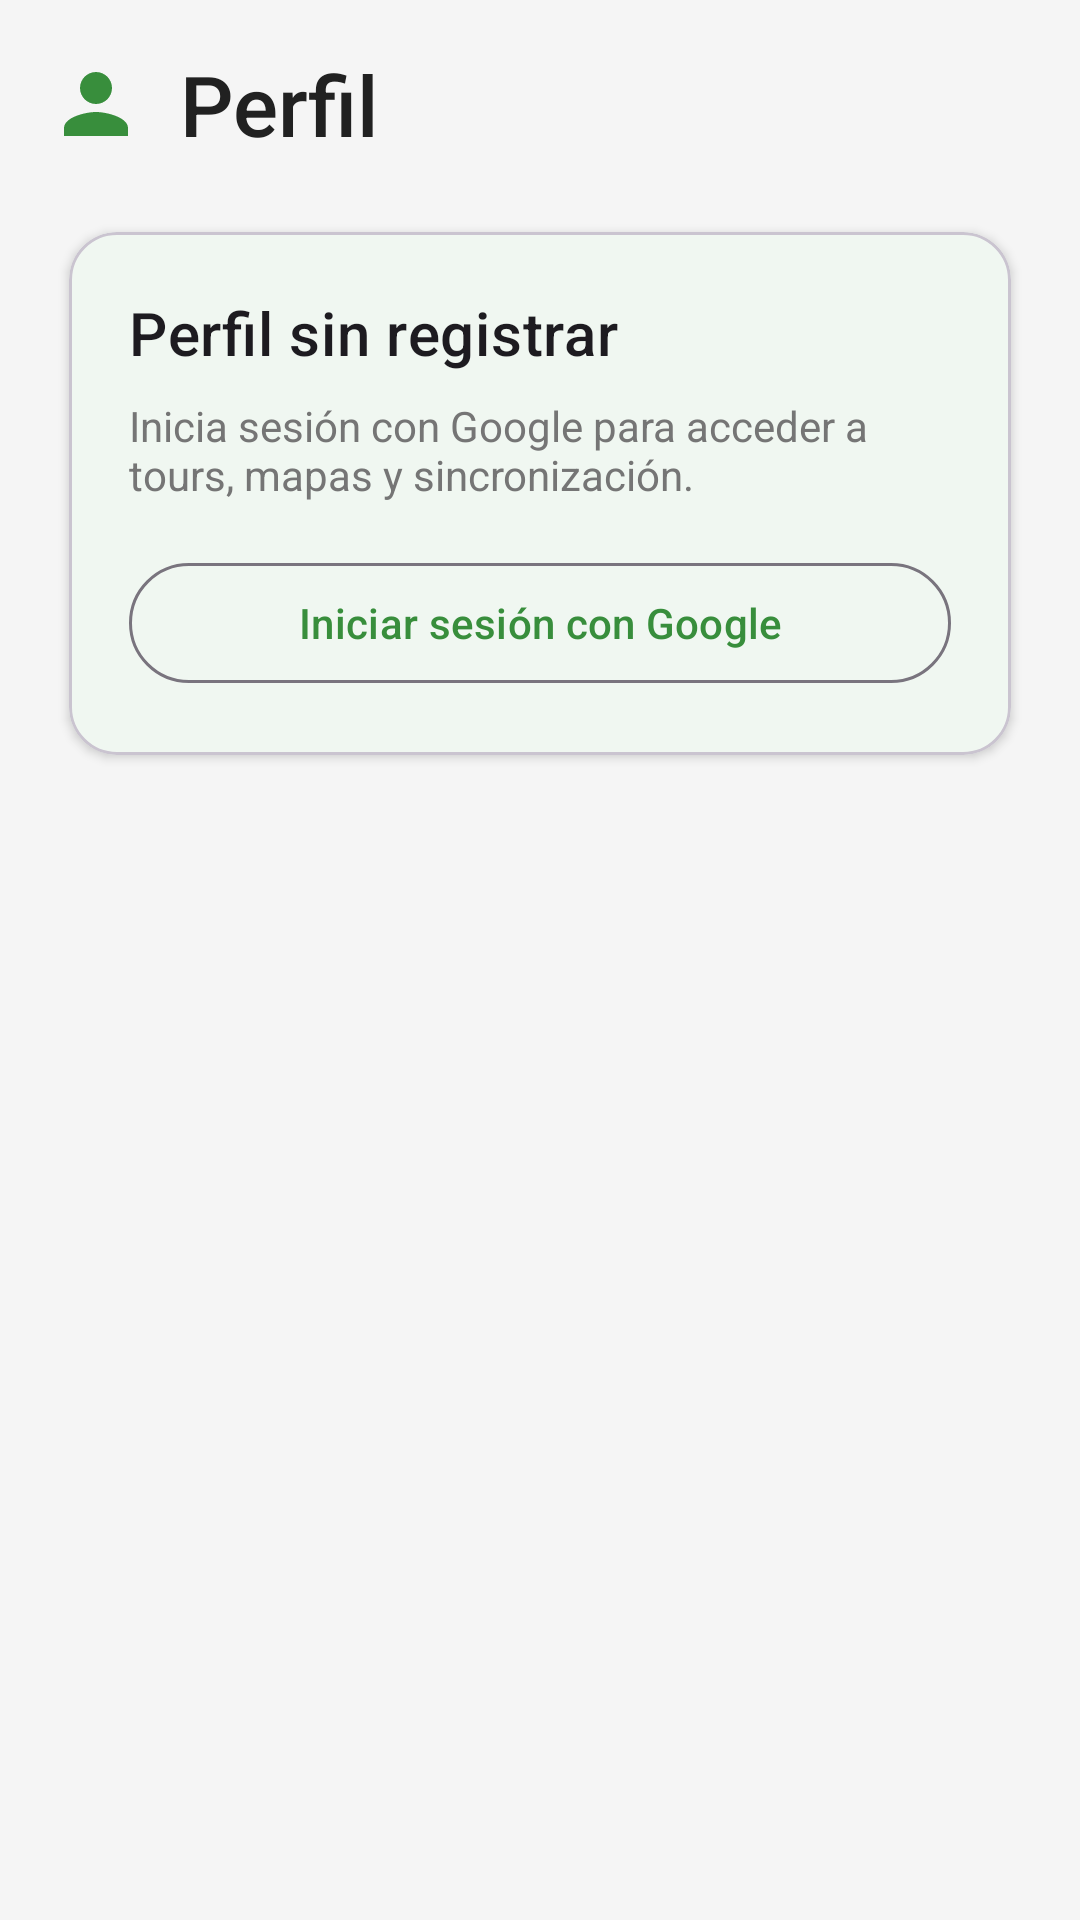

Where icons sit on this 1080 x 1920 app screen, as [x1,y1,x2,y2]:
profile: [64,72,128,136]
